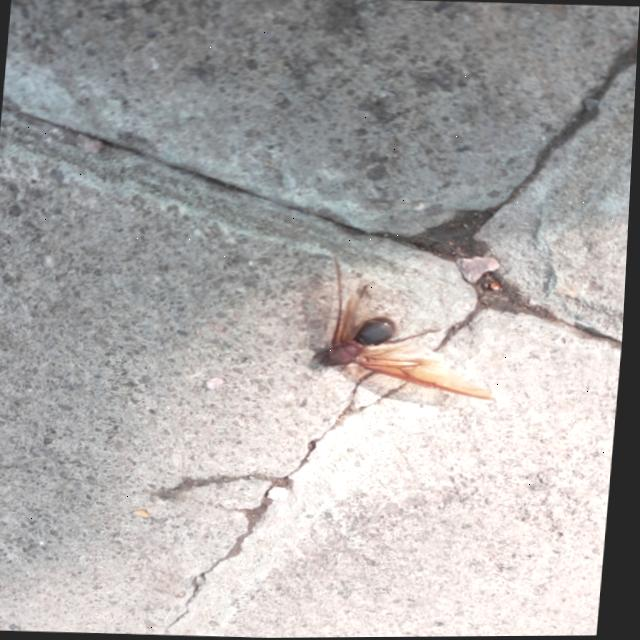Alive-Female-Alate: (285, 252, 512, 402)
